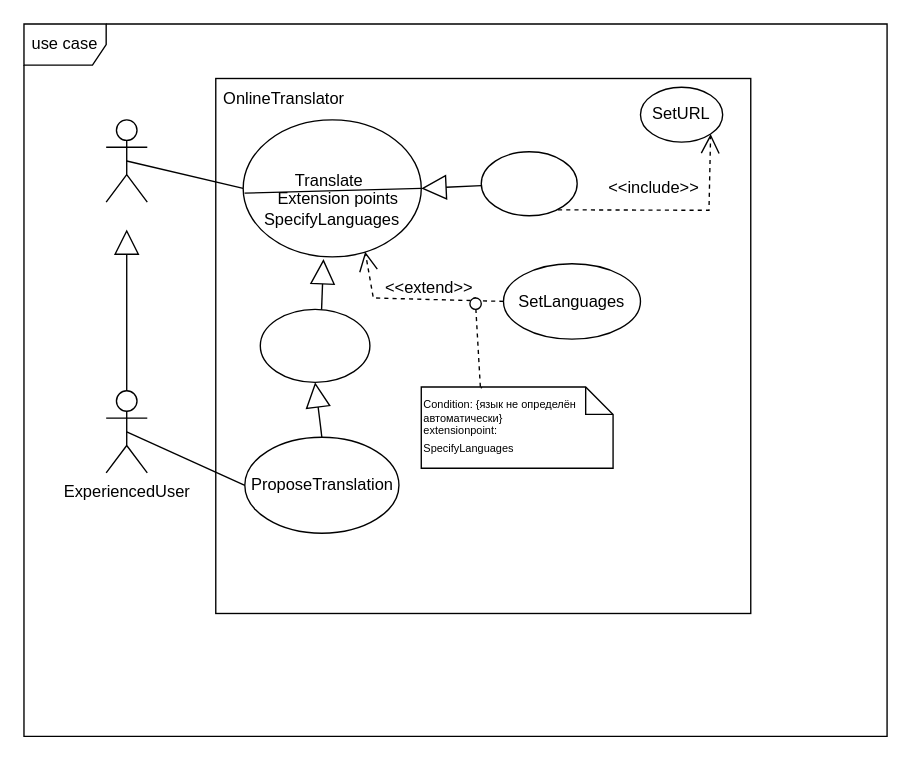
Some shapes in this 911 by 760 pixel diagram are drawn without their labels. Here are the shapes that lost their labels. From the top down, the centre of each, then its label:
At point (126, 160): "User".
At point (528, 183): "Translate webpage".
At point (314, 345): "TranslateText".
